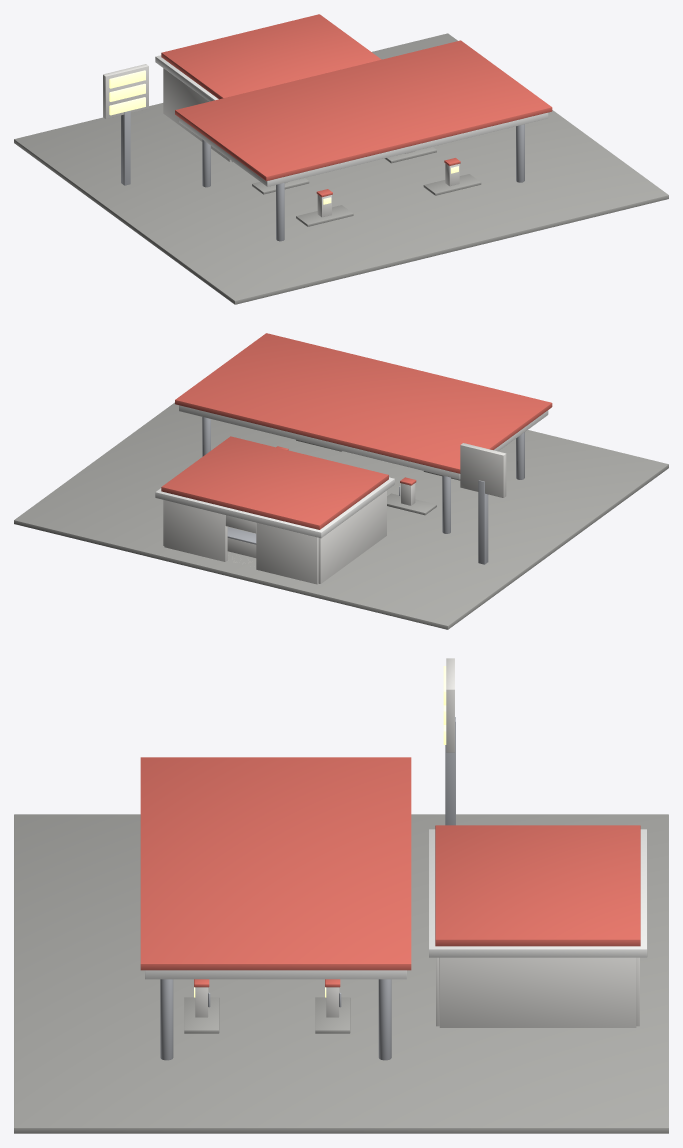
The model's file is th20_tankstelle.glb.
3 views of the same model, one above another, from view 1: azimuth 30°, elevation 25°; view 2: azimuth 150°, elevation 25°; view 3: azimuth 270°, elevation 25° (orthographic). The views are drawn at different scales.
Parts seen in each view (by area): view 1: Cube, Cube.027, Cube.009, Cube.026, Cube.006, Cube.045, Cube.044, Cube.008, Cube.036, Cube.028, Cylinder.002, Cylinder; view 2: Cube, Cube.027, Cube.009, Cube.006, Cube.003, Cube.002, Cube.008, Cube.026, Cube.045, Cube.044, Cube.032, Cylinder.001; view 3: Cube, Cube.027, Cube.009, Cube.007, Cube.008, Cube.026, Cylinder.002, Cylinder.003, Cube.036, Cube.040, Cube.044, Cube.045.
Boxes of the visible parts, bbox=[...] form: Cube: bbox=[14, 33, 668, 304]; Cube.027: bbox=[175, 40, 552, 181]; Cube.009: bbox=[161, 14, 381, 99]; Cube.026: bbox=[179, 112, 548, 186]; Cube.006: bbox=[163, 68, 231, 161]; Cube.045: bbox=[103, 64, 148, 118]; Cube.044: bbox=[121, 110, 130, 185]; Cube.008: bbox=[155, 55, 218, 101]; Cube.036: bbox=[423, 174, 481, 195]; Cube.028: bbox=[296, 205, 353, 226]; Cylinder.002: bbox=[516, 124, 524, 182]; Cylinder: bbox=[276, 183, 284, 241]; Cube: bbox=[14, 402, 668, 629]; Cube.027: bbox=[175, 333, 552, 473]; Cube.009: bbox=[161, 436, 388, 529]; Cube.006: bbox=[318, 490, 386, 583]; Cube.003: bbox=[164, 500, 227, 561]; Cube.002: bbox=[256, 522, 318, 584]; Cube.008: bbox=[155, 477, 394, 538]; Cube.026: bbox=[179, 405, 548, 479]; Cube.045: bbox=[460, 443, 506, 497]; Cube.044: bbox=[478, 480, 488, 564]; Cube.032: bbox=[387, 493, 436, 515]; Cylinder.001: bbox=[442, 475, 450, 533]; Cube: bbox=[14, 814, 668, 1133]; Cube.027: bbox=[140, 757, 411, 970]; Cube.009: bbox=[435, 825, 640, 946]; Cube.007: bbox=[439, 957, 636, 1027]; Cube.008: bbox=[429, 829, 647, 957]; Cube.026: bbox=[145, 970, 406, 979]; Cylinder.002: bbox=[160, 979, 173, 1060]; Cylinder.003: bbox=[378, 979, 391, 1060]; Cube.036: bbox=[184, 997, 219, 1033]; Cube.040: bbox=[315, 997, 350, 1033]; Cube.044: bbox=[445, 717, 455, 825]; Cube.045: bbox=[446, 658, 454, 752].
Bounding box in the file's own units: 34 × 8.8 × 30.
